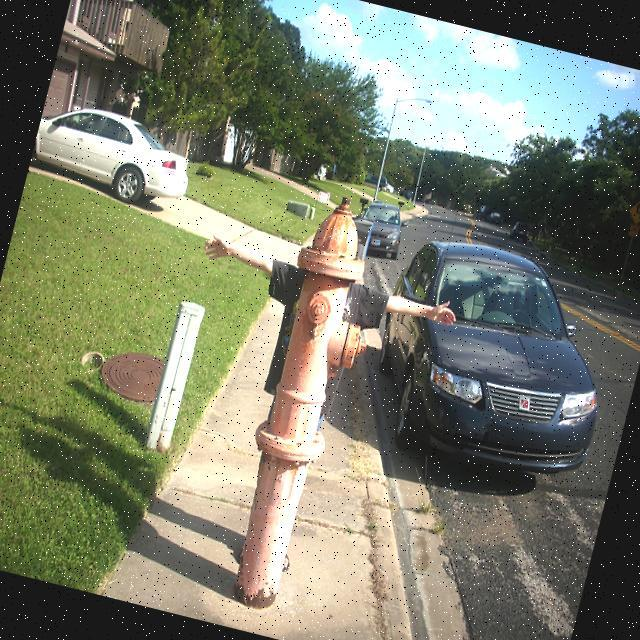fire_hydrant: (209, 188, 397, 616)
